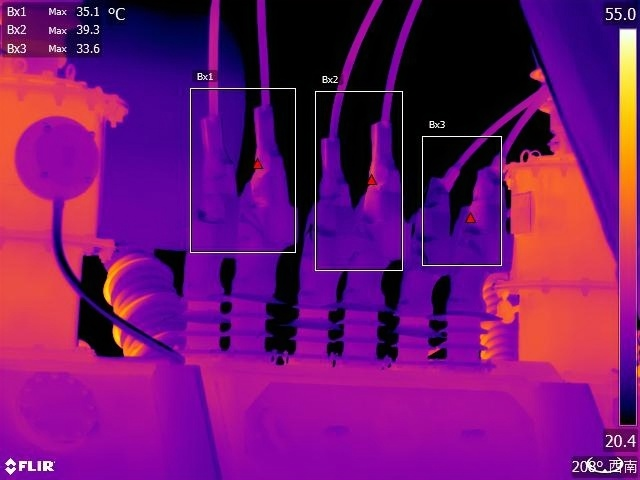clamp: (241, 99, 295, 247), (200, 109, 247, 244), (313, 127, 360, 259), (361, 115, 400, 254), (416, 172, 465, 263), (471, 160, 512, 266)
tube: (96, 239, 189, 352)
